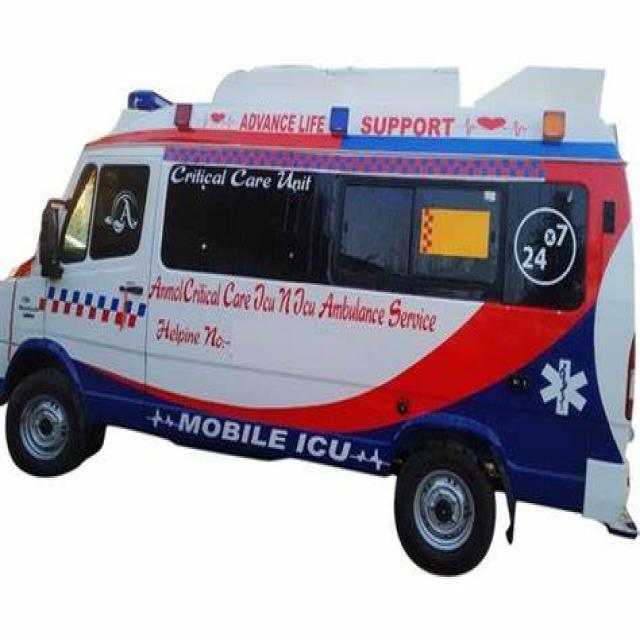ambulance: (128, 80, 191, 130)
